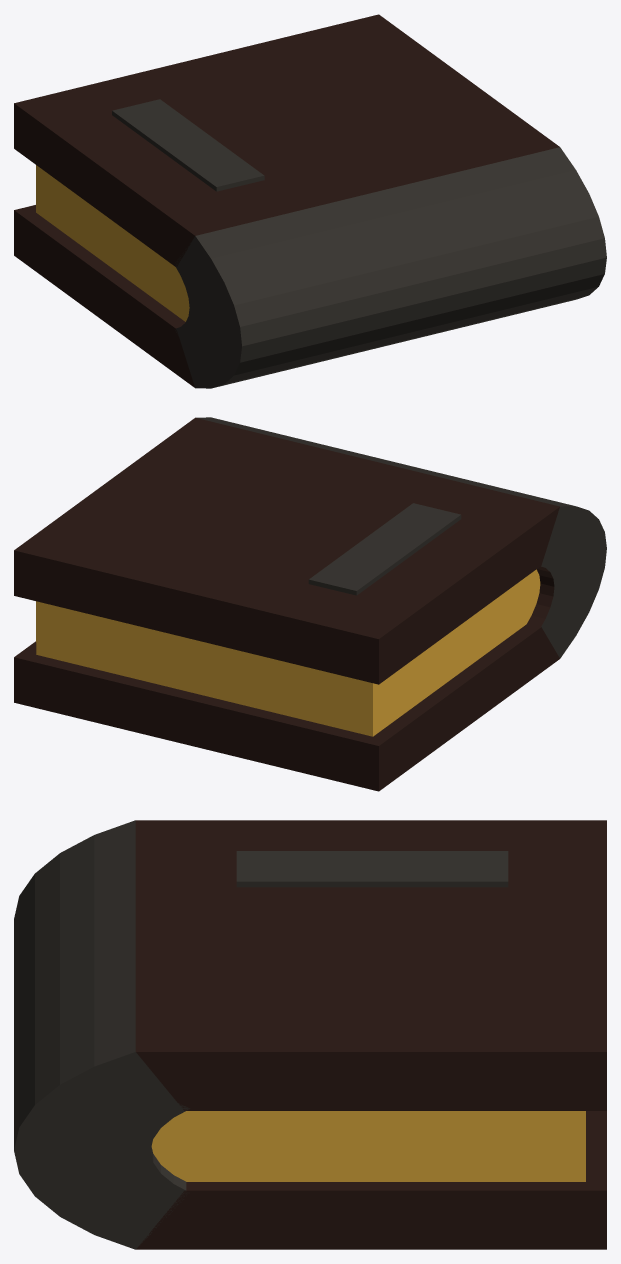
Rendered from book.fbx.
3 renders of one model, top to bottom at view 1: azimuth 30°, elevation 25°; view 2: azimuth 150°, elevation 25°; view 3: azimuth 270°, elevation 25°, orthographic. The views are drawn at different scales.
Visible parts, largest first — view 1: Cylinder.003; view 2: Cylinder.003; view 3: Cylinder.003.
Boxes of the visible parts, x1,y1,x2,y2 form: Cylinder.003: [14, 14, 606, 388]; Cylinder.003: [14, 417, 606, 791]; Cylinder.003: [14, 820, 606, 1249].
Bounding box in the file's own units: 28.95 × 11.99 × 31.34.
